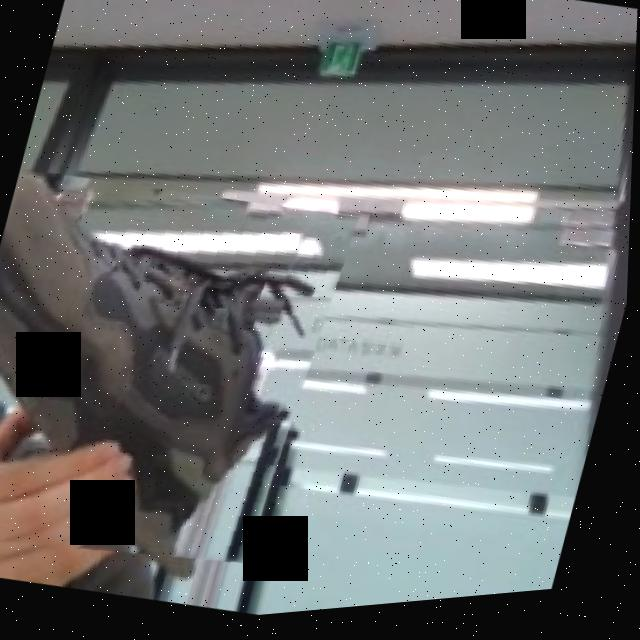shoe: (0, 145, 364, 610)
